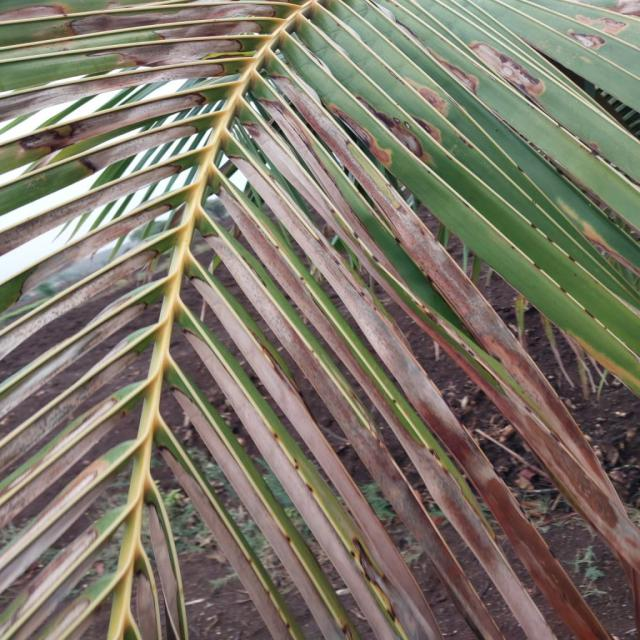gray leaf spot: (6, 1, 630, 640), (339, 119, 451, 156), (484, 43, 551, 98), (554, 8, 640, 46)
